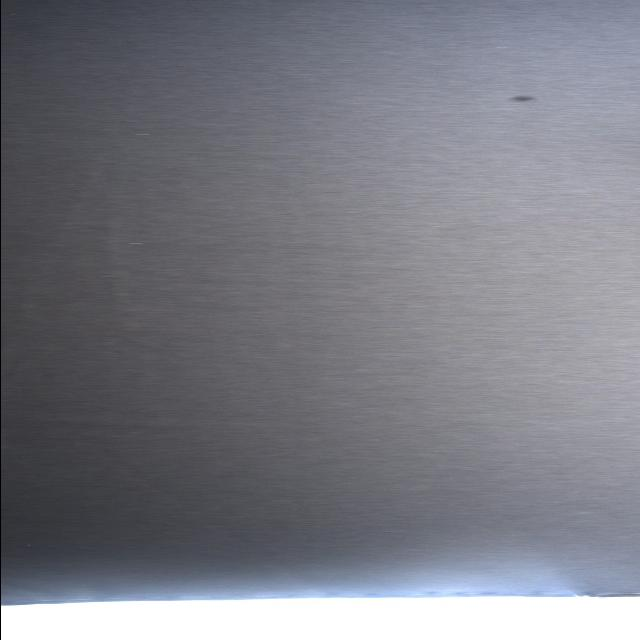crease: (72, 441, 298, 562), (99, 201, 144, 334), (9, 417, 244, 433)
